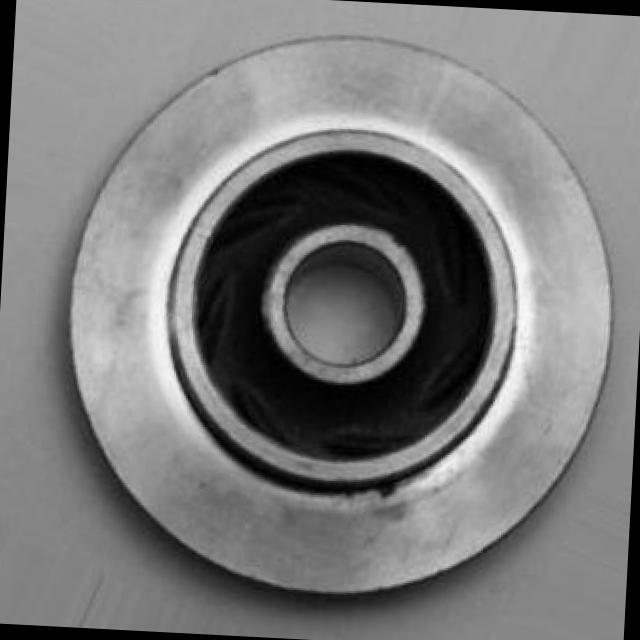Defect: (360, 468, 410, 512)
